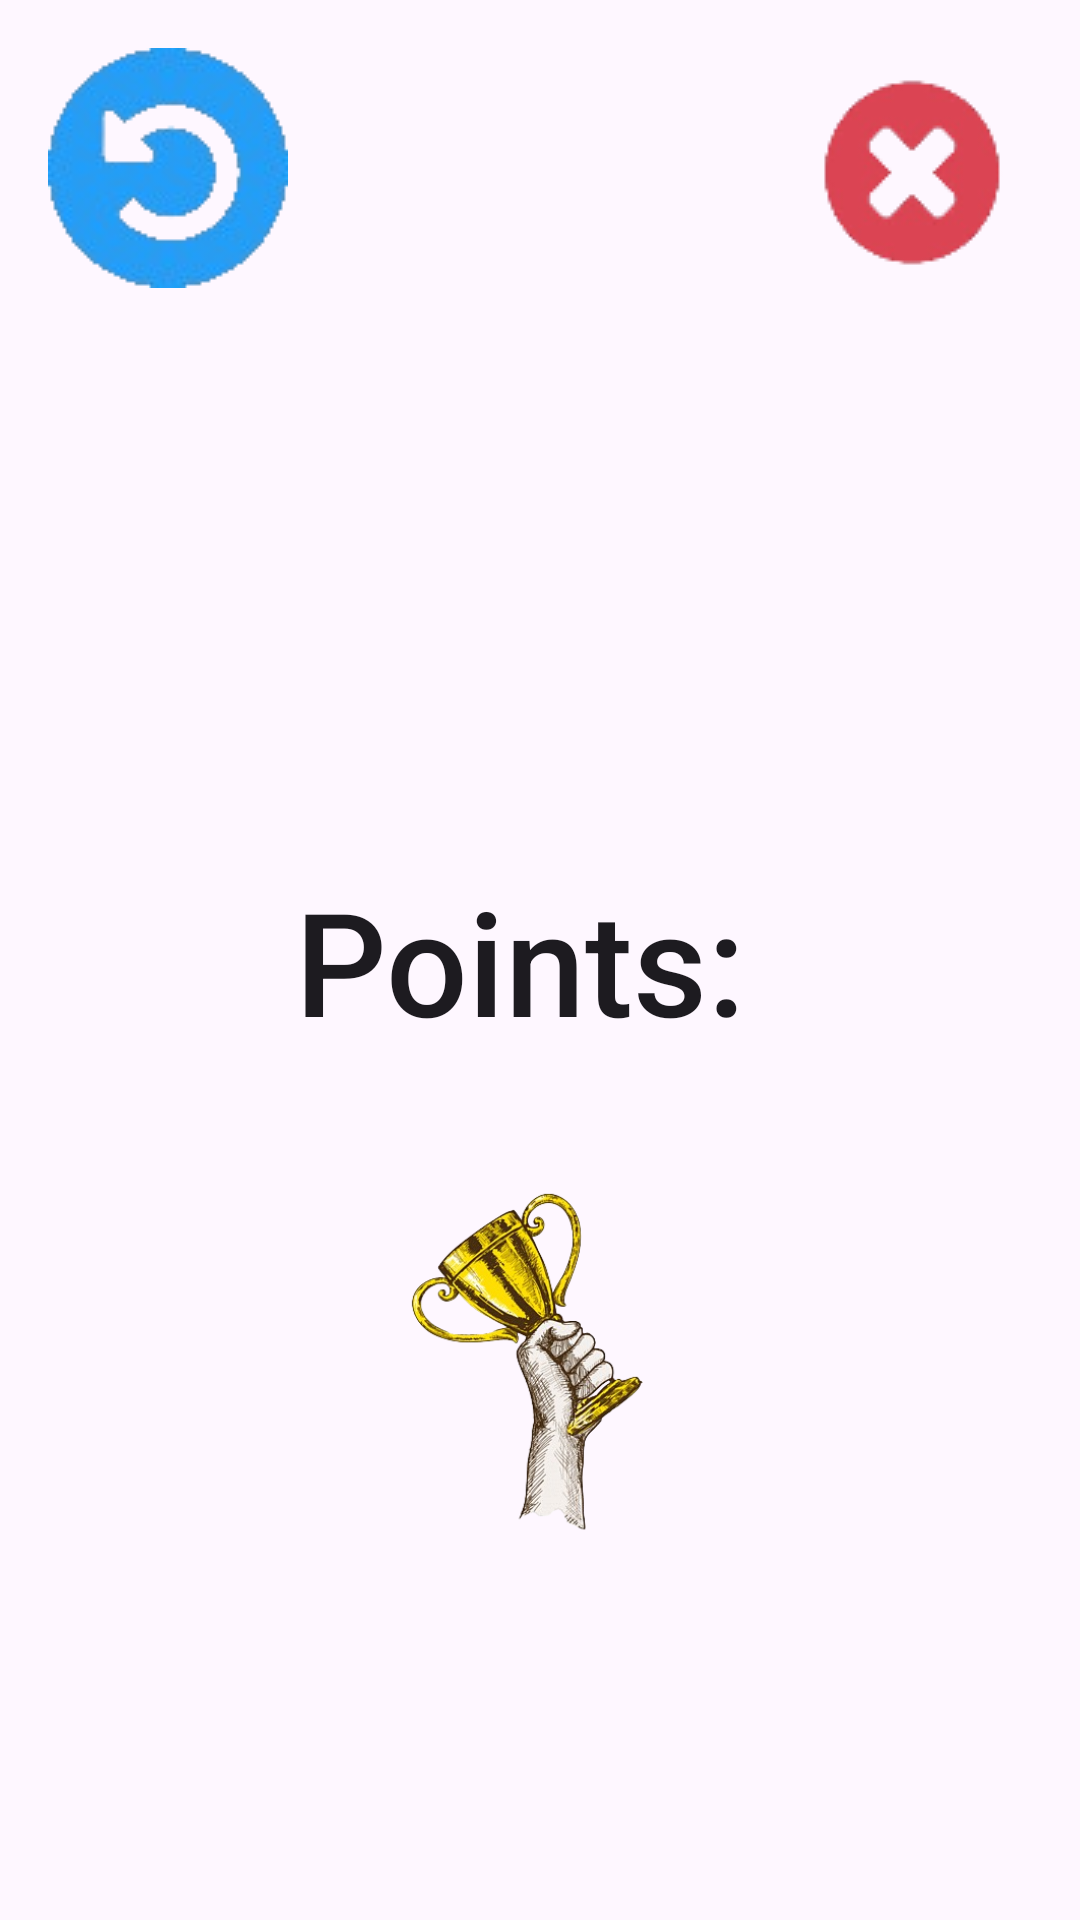

Where icons sit on this 1080*1920 app screen, as (x1, y1, x2, y2):
exit: (824, 80, 1000, 265)
restart: (48, 48, 288, 288)
trophy: (412, 1193, 643, 1530)
